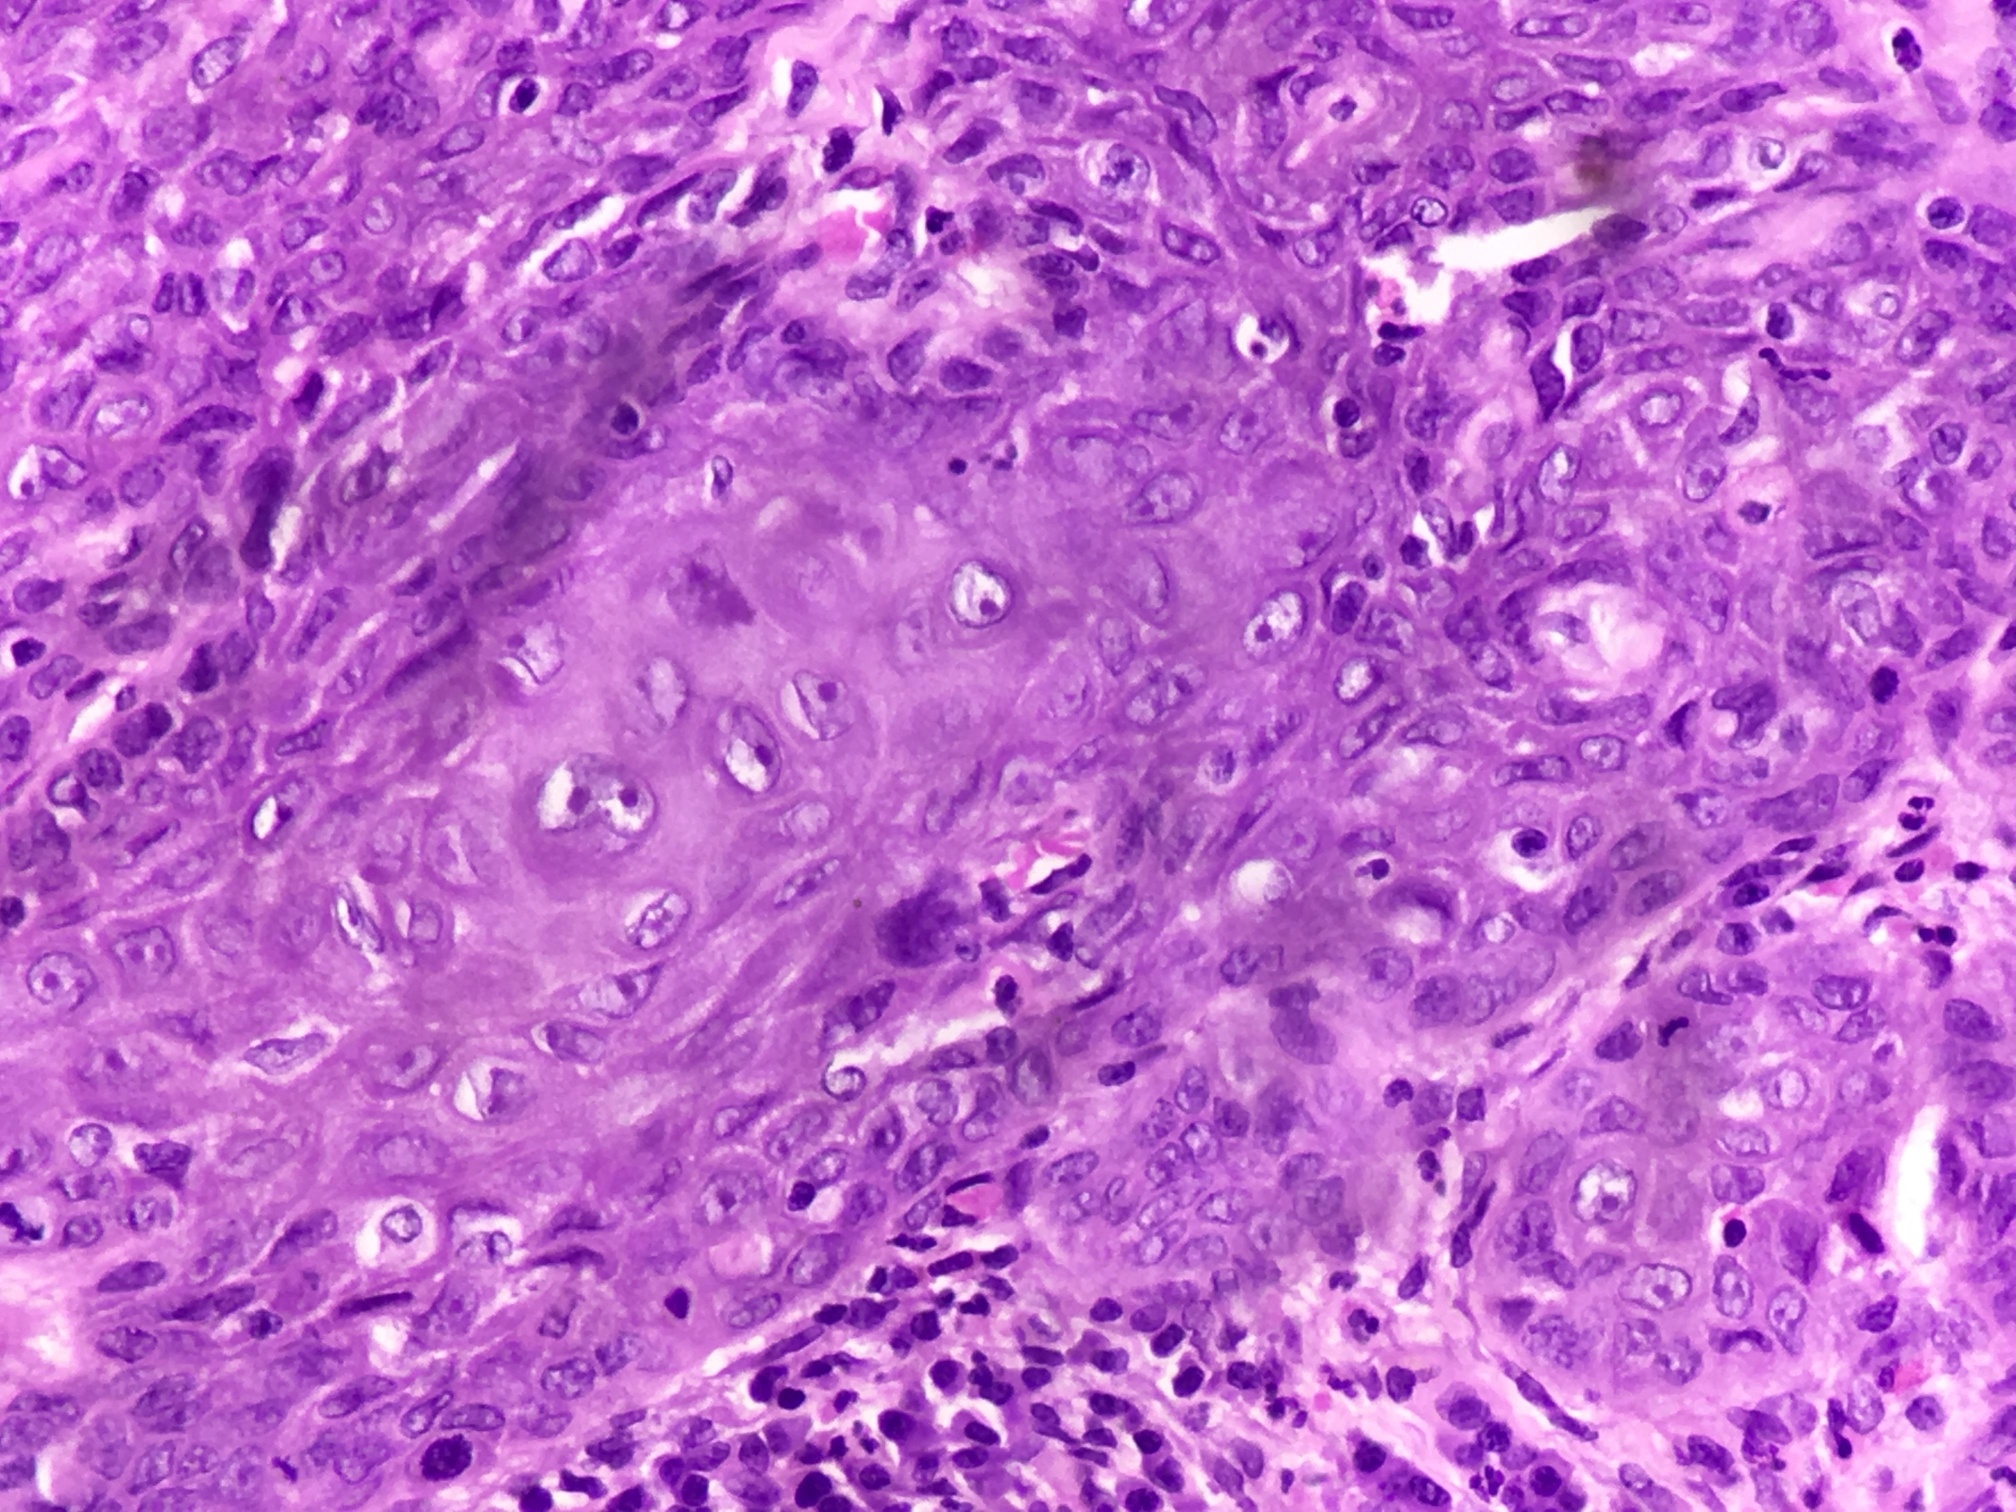mitotic: (1625, 962, 1730, 1090), (392, 1396, 491, 1512), (233, 1396, 322, 1512)
